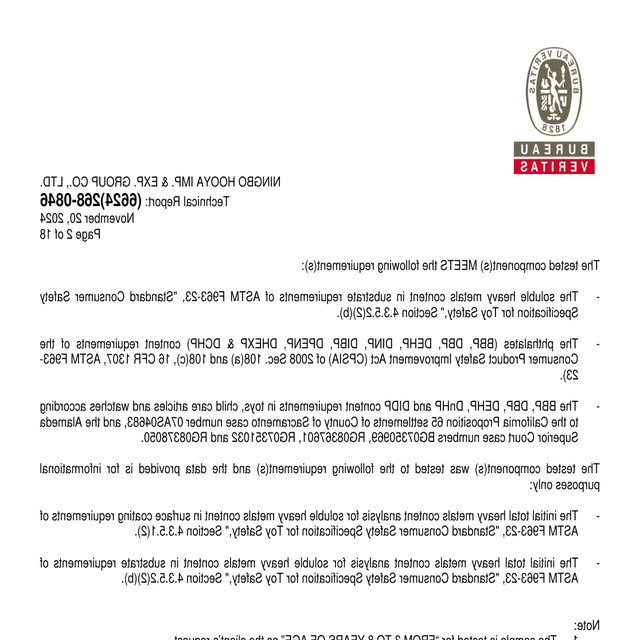bureau_veritas: (507, 40, 602, 181)
